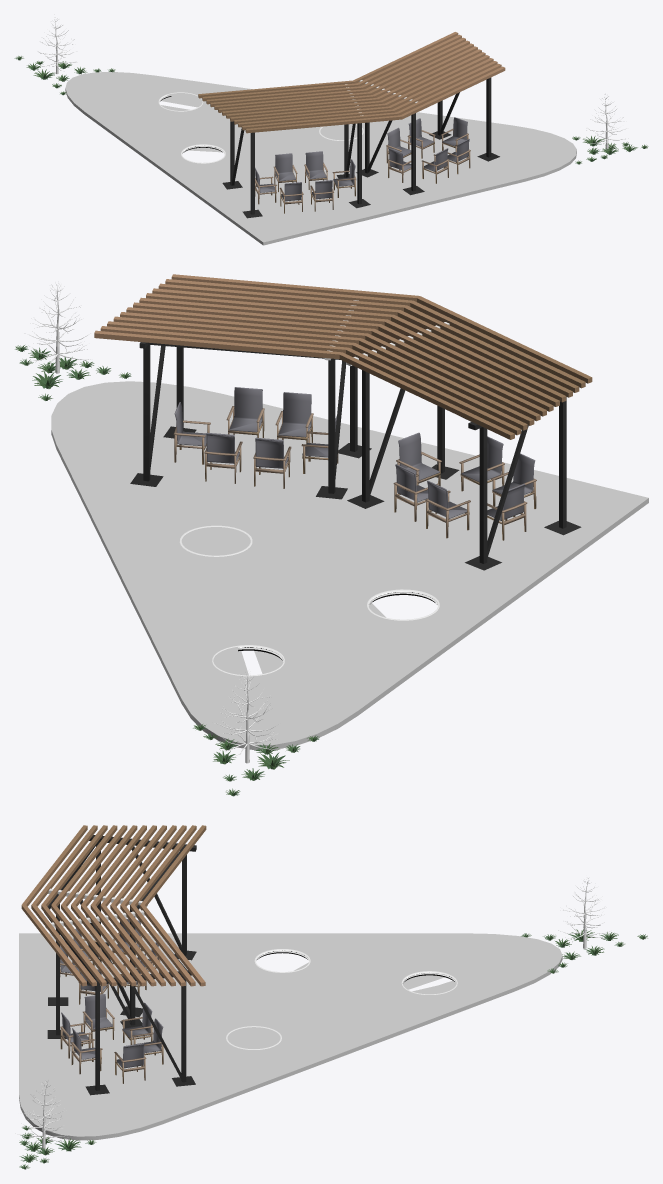
File: ZONA 4.fbx
3 renders of one model, top to bottom at view 1: azimuth 30°, elevation 25°; view 2: azimuth 150°, elevation 25°; view 3: azimuth 270°, elevation 25°, orthographic. The views are drawn at different scales.
Parts seen in each view (by area): view 1: Cylinder.027, Cube.494, Plane.028, Plane.027, Cube.620, Cube.429, Plane.030, Plane.004, Plane.003, Plane.031, tree.014, tree.013 (+6 smaller); view 2: Cylinder.027, Cube.494, Plane.032, Plane.031, Cube.620, Cube.429, Plane.033, Plane.034, Plane.028, Plane.001, tree.014, tree.013 (+5 smaller); view 3: Cylinder.027, Cube.494, Plane.035, Cube.429, Cube.620, Plane.030, tree.013, tree.014, Plane.032, Plane.034, Plane.031, Plane.033.
Boxes of the visible parts, x1,y1,x2,y2 form: Cylinder.027: (65,72,576,245); Cube.494: (198,32,505,218); Plane.028: (273,153,297,191); Plane.027: (304,151,327,189); Cube.620: (14,56,115,95); Cube.429: (572,136,648,164); Plane.030: (441,117,468,150); Plane.004: (310,180,334,211); Plane.003: (279,182,303,213); Plane.031: (421,148,449,183); tree.014: (586,94,625,150); tree.013: (37,18,77,73); Cylinder.027: (51,381,648,750); Cube.494: (94,274,592,570); Plane.032: (226,387,264,437); Plane.031: (275,392,313,443); Cube.620: (193,724,319,796); Cube.429: (15,345,131,400); Plane.033: (204,432,242,483); Plane.034: (253,437,291,488); Plane.028: (425,480,470,538); Plane.001: (396,432,441,486); tree.014: (24,282,90,373); tree.013: (214,671,282,763); Cylinder.027: (19,933,562,1140); Cube.494: (21,825,206,1095); Plane.035: (82,994,114,1042); Cube.429: (19,1126,96,1169); Cube.620: (521,929,647,973); Plane.030: (114,1043,146,1083); tree.013: (558,877,610,948); tree.014: (15,1079,67,1150); Plane.032: (71,1028,102,1074); Plane.034: (121,1002,152,1044); Plane.031: (60,1012,91,1058); Plane.033: (132,1018,163,1066).
Size of the model in its own units: 2989 by 689 by 3366.
